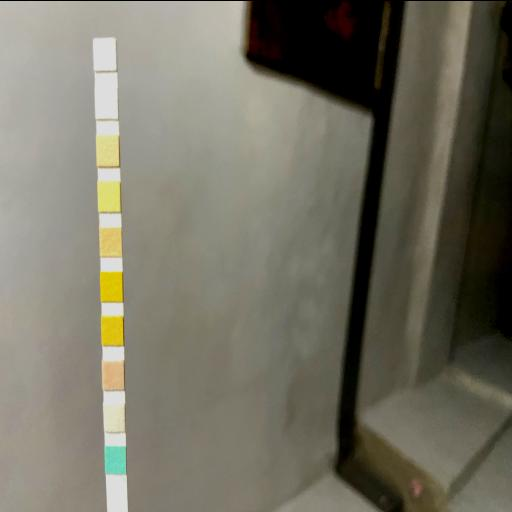Bilirubin: (104, 405, 124, 430)
Blood: (100, 272, 122, 300)
Glucose: (106, 446, 126, 472)
Ketone: (102, 360, 124, 388)
Leukocytes: (94, 38, 116, 68)
Nitrite: (96, 88, 118, 118)
Protein: (98, 180, 120, 210)
SpGravity: (102, 315, 124, 344)
Urobilinogen: (97, 135, 119, 165)
pH: (100, 226, 122, 254)
strip: (94, 36, 129, 511)
